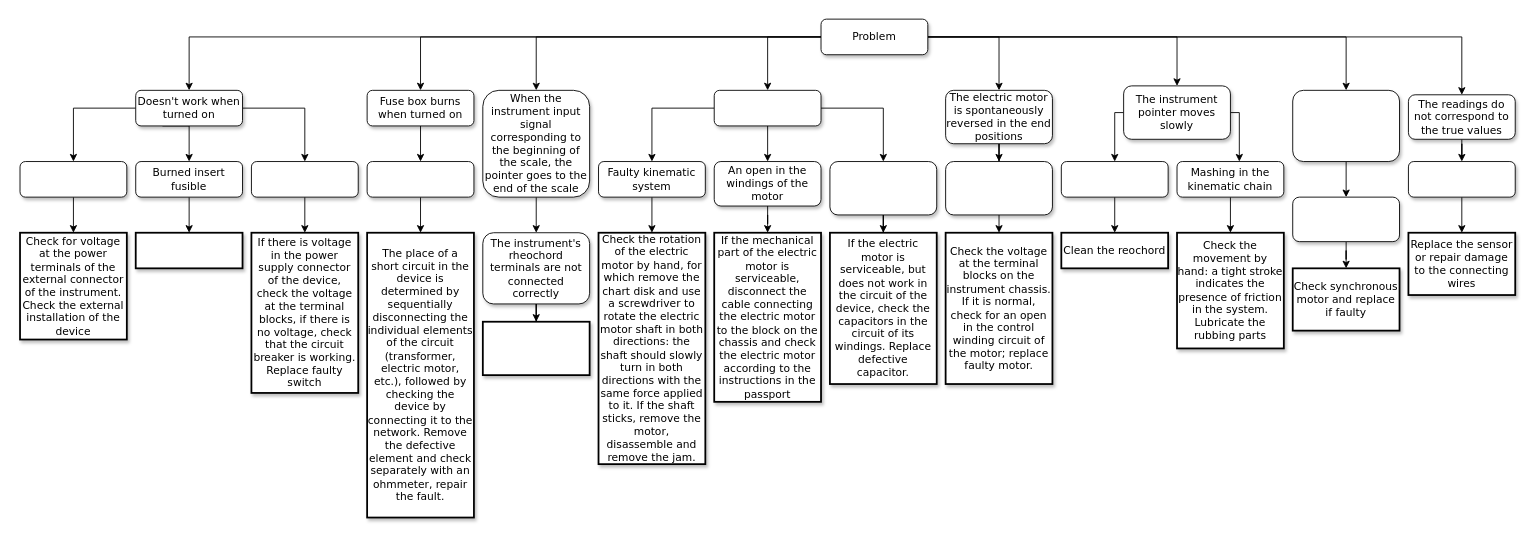
Some shapes in this 1536 by 540 pixel diagram are drawn without their labels. Here are the shapes that lost their labels. From the top down, the centre of each, then its label:
At point (768, 109): "The motor does not rotate".
At point (1346, 127): "The chart disk does not rotate when the instrument is switched on".
At point (74, 180): "There is no voltage in the network".
At point (305, 180): "Faulty switch".
At point (421, 180): "Short circuit".
At point (883, 189): "The capacitor shunting the motor winding is faulty".
At point (999, 189): "There is no voltage on the control winding of the motor".
At point (1115, 180): "Polluted rheohord".
At point (1462, 180): "Faulty sensor or connecting wires".
At point (1346, 220): "Diagram disc drive synchronous motor defective".
At point (189, 251): "Replace the fusible box".
At point (536, 349): "Swap the rheochord leads according to the wiring diagram".
